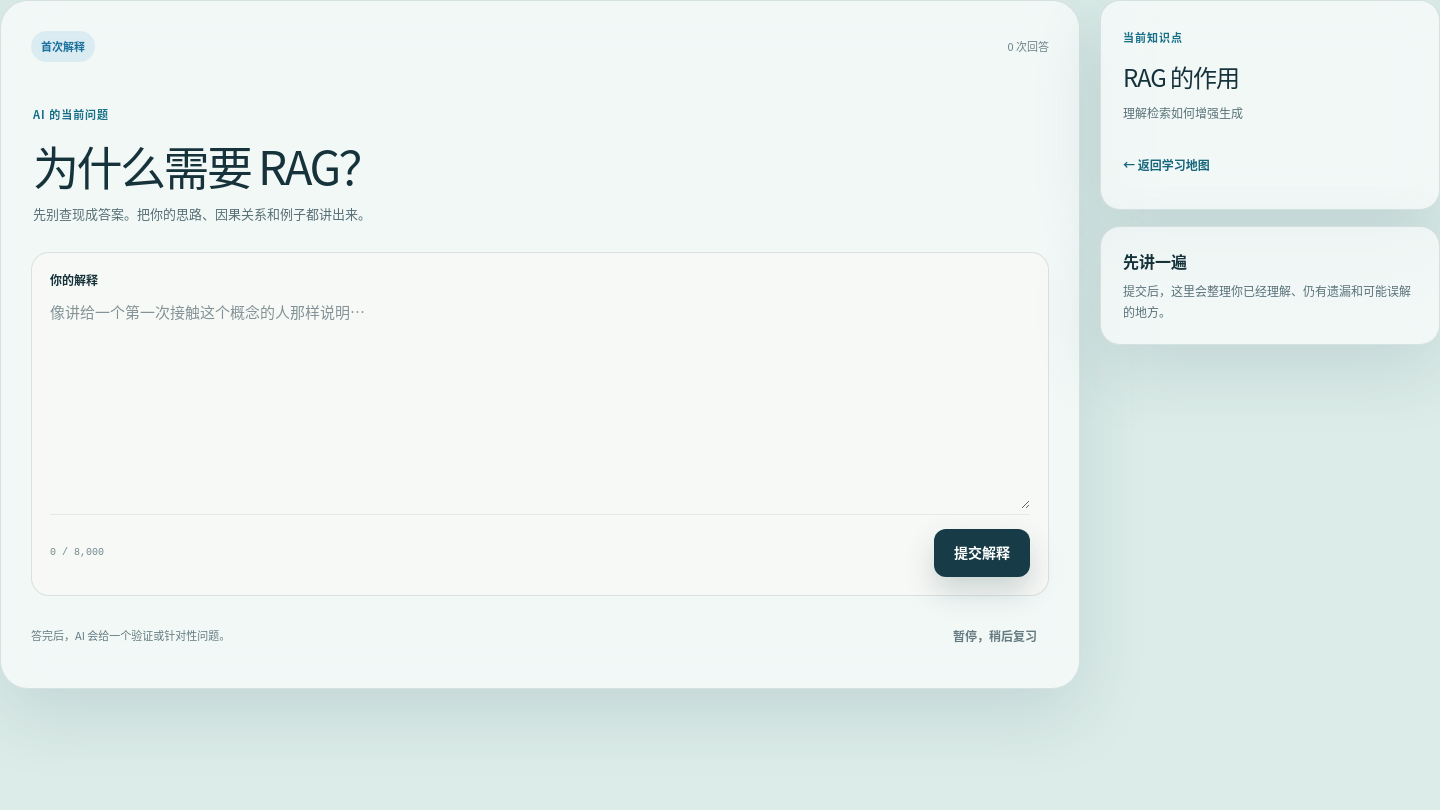
Test: TrainingPanel › API 失败时保留回答并提供原 Attempt 重试
Type "RAG 就是搜索资料。" into the text box labelled "你的解释" at (540, 404), box [50,299,1030,509]
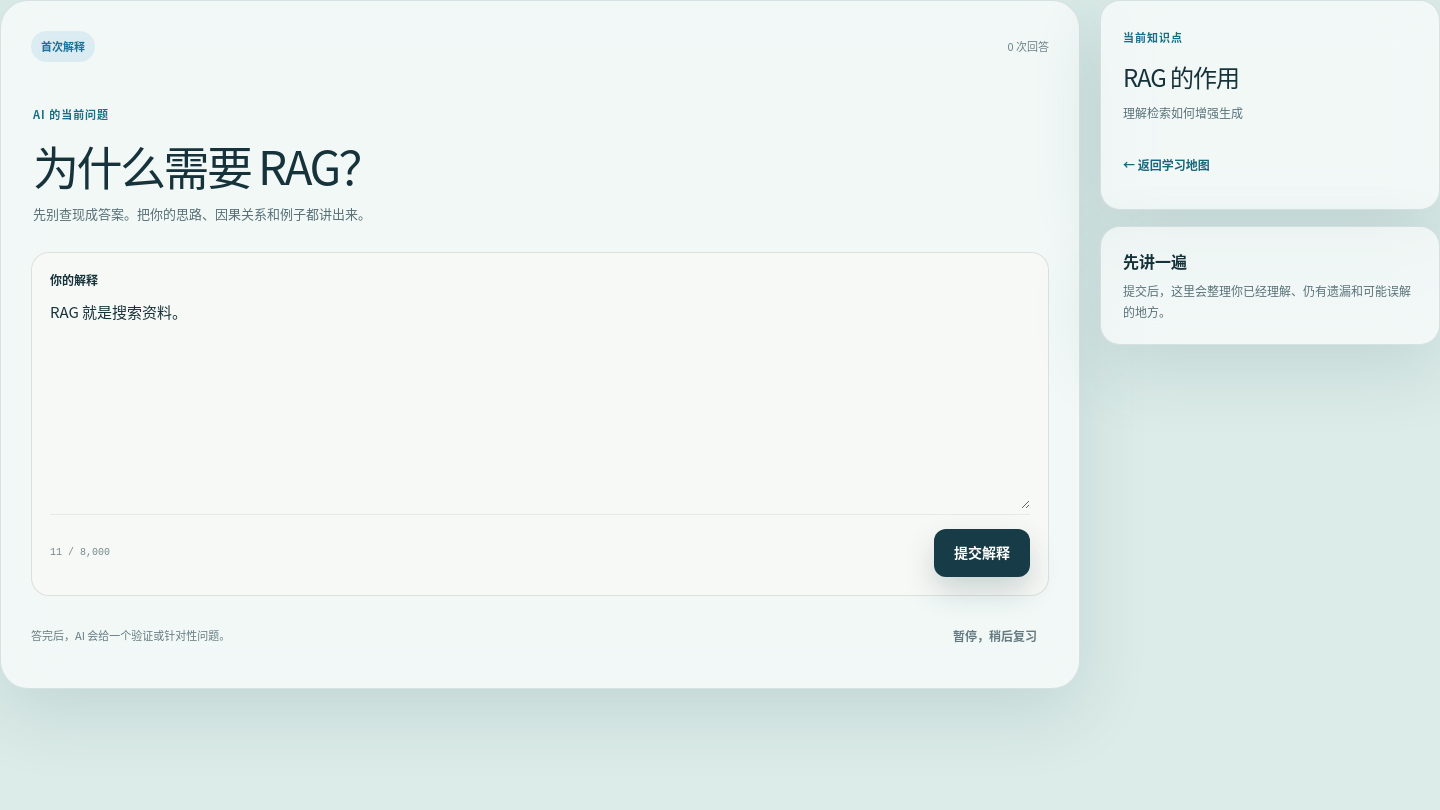
Click the button "提交解释" at (982, 553), box [934,529,1030,577]
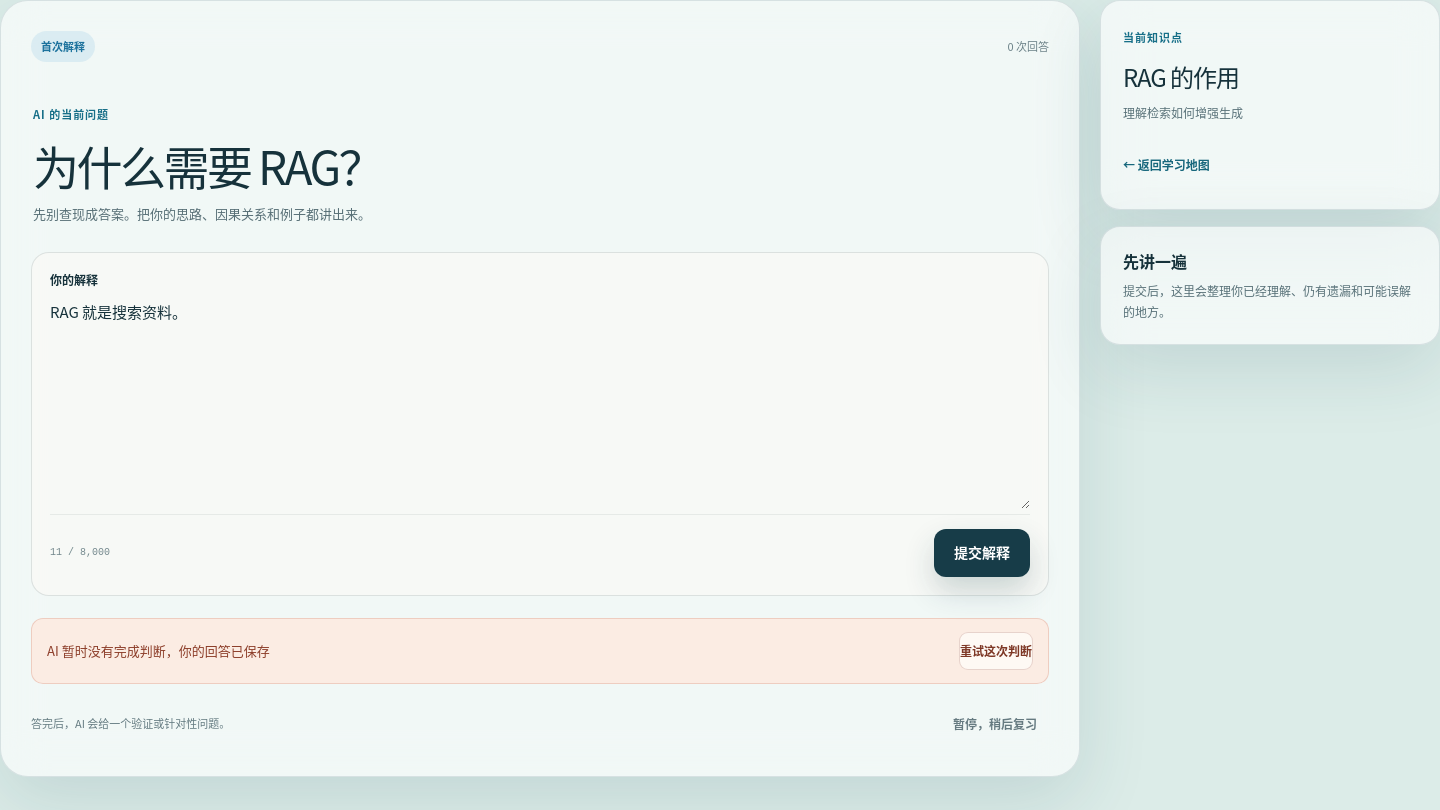
Check: the message shows "回答已保存", box [47,641,270,660]
Check: the button "重试这次判断" is enabled, box [959,632,1033,670]
